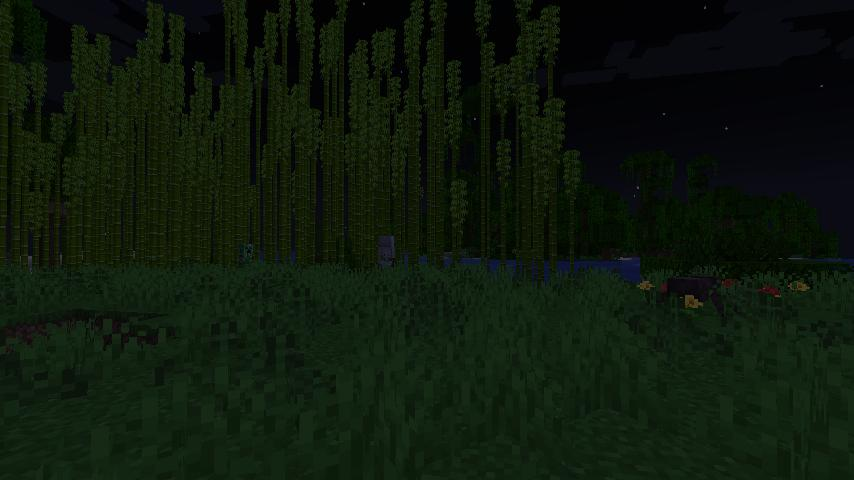creeper: (237, 242, 254, 269)
skeleton: (375, 234, 397, 272)
